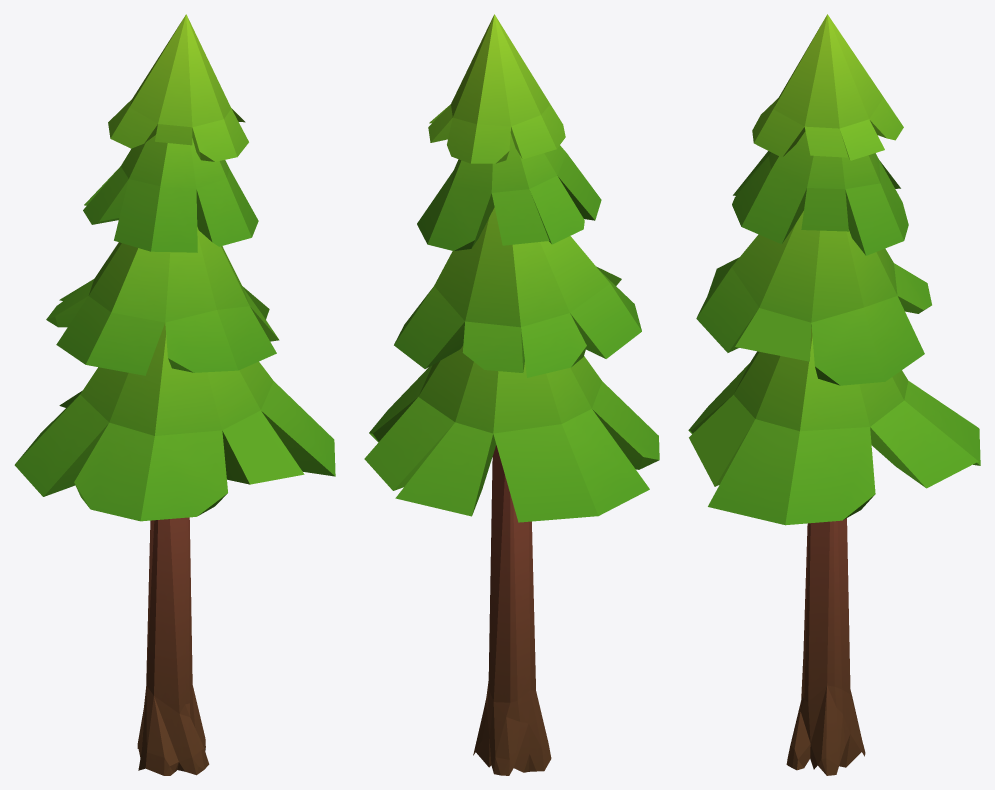
File: tree1.fbx
The picture shows the model from 3 angles, left to right: view 1: azimuth 30°, elevation 25°; view 2: azimuth 150°, elevation 25°; view 3: azimuth 270°, elevation 25°; orthographic projection.
Parts seen in each view (by area): view 1: SM_Tree3; view 2: SM_Tree3; view 3: SM_Tree3.
Boxes of the visible parts, x1,y1,x2,y2 form: SM_Tree3: (14,14,335,775); SM_Tree3: (364,14,659,775); SM_Tree3: (688,14,980,775).
Bounding box in the file's own units: 468 × 1204 × 422.
2 materials, 2 textured.
